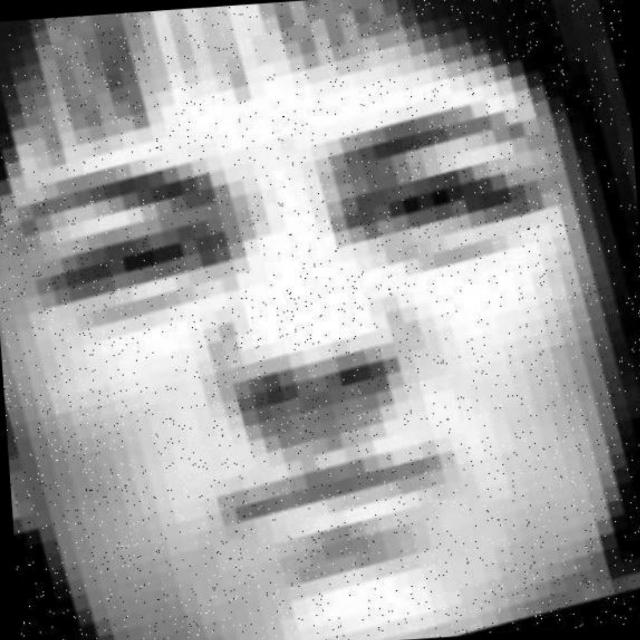Disgust: (5, 42, 640, 593)
